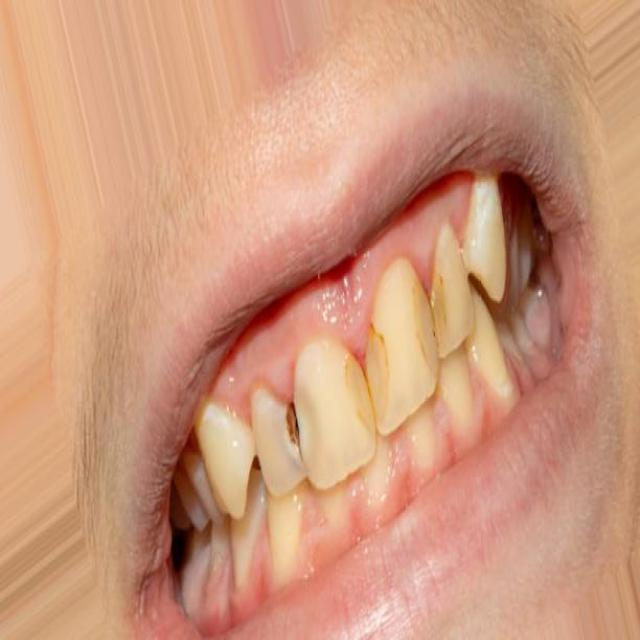caries: (328, 306, 400, 434), (407, 257, 460, 365), (272, 389, 320, 471)
